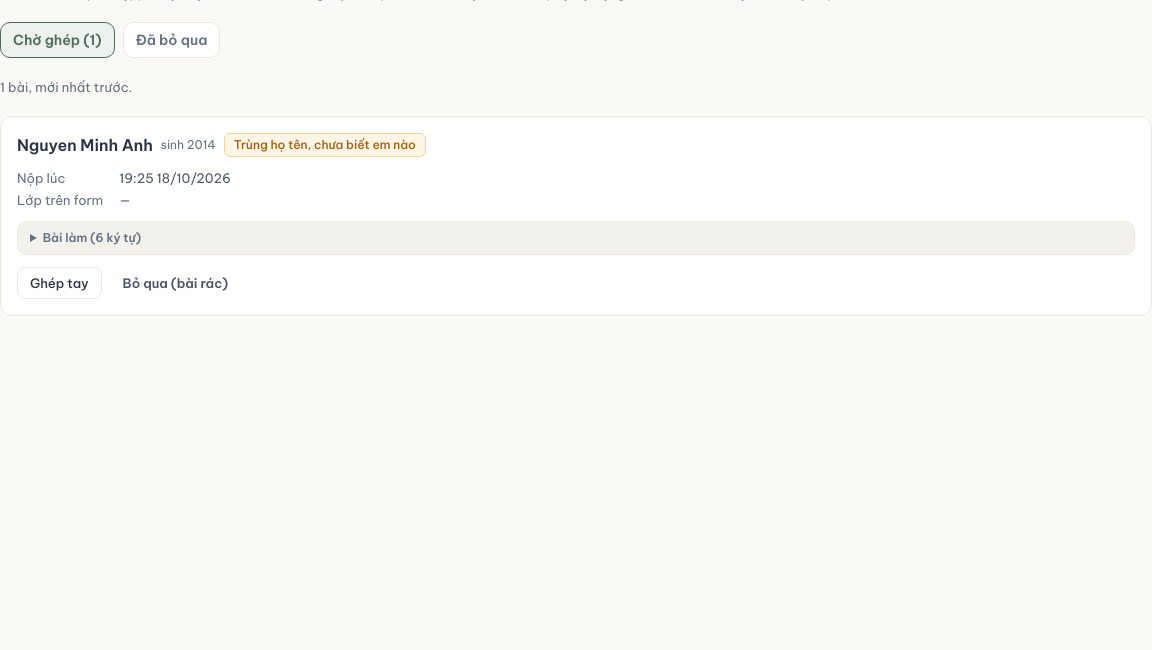
manual match › picks a student, then one of their sessions that day, and matches
Click the button "Ghép tay" at (59, 283), box x1=17 y1=267 x2=102 y2=299
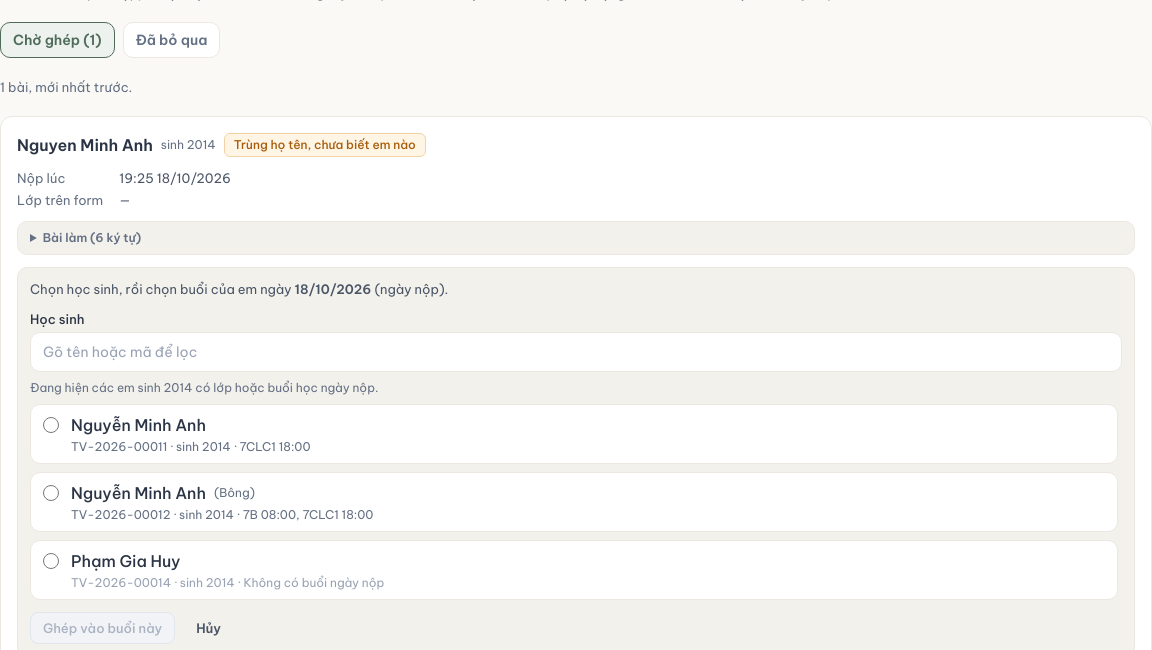
Result: the text "18/10/2026" is shown at x1=295 y1=281 x2=371 y2=297
Result: the button "Ghép vào buổi này" is disabled at x1=30 y1=612 x2=175 y2=644
Click the radio button labelled "Bông" at (51, 493), box x1=43 y1=485 x2=59 y2=501
(page scrolled)
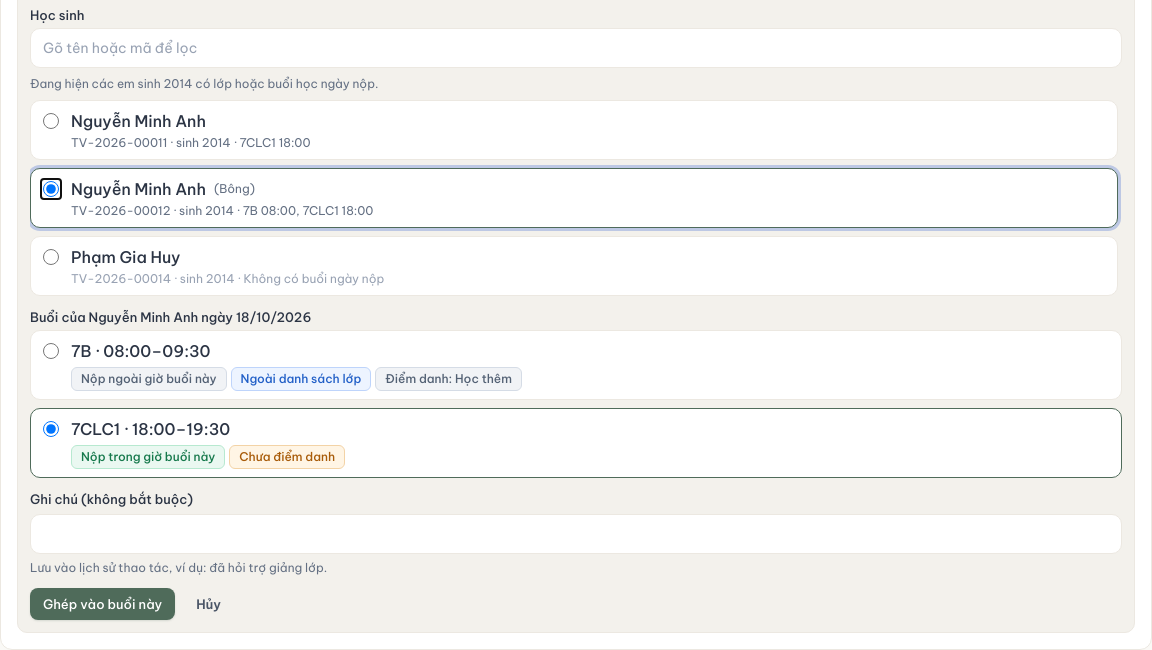
Result: the radio button labelled "7CLC1 · 18:00–19:30 Nộp trong giờ buổi này Chưa điểm danh" is checked at x1=43 y1=421 x2=59 y2=437
Result: the radio button labelled "7B · 08:00–09:30" is not checked
Result: the text "Ngoài danh sách lớp" is shown at x1=231 y1=367 x2=371 y2=391
Click the radio button labelled "7B · 08:00–09:30" at (51, 351), box x1=43 y1=343 x2=59 y2=359
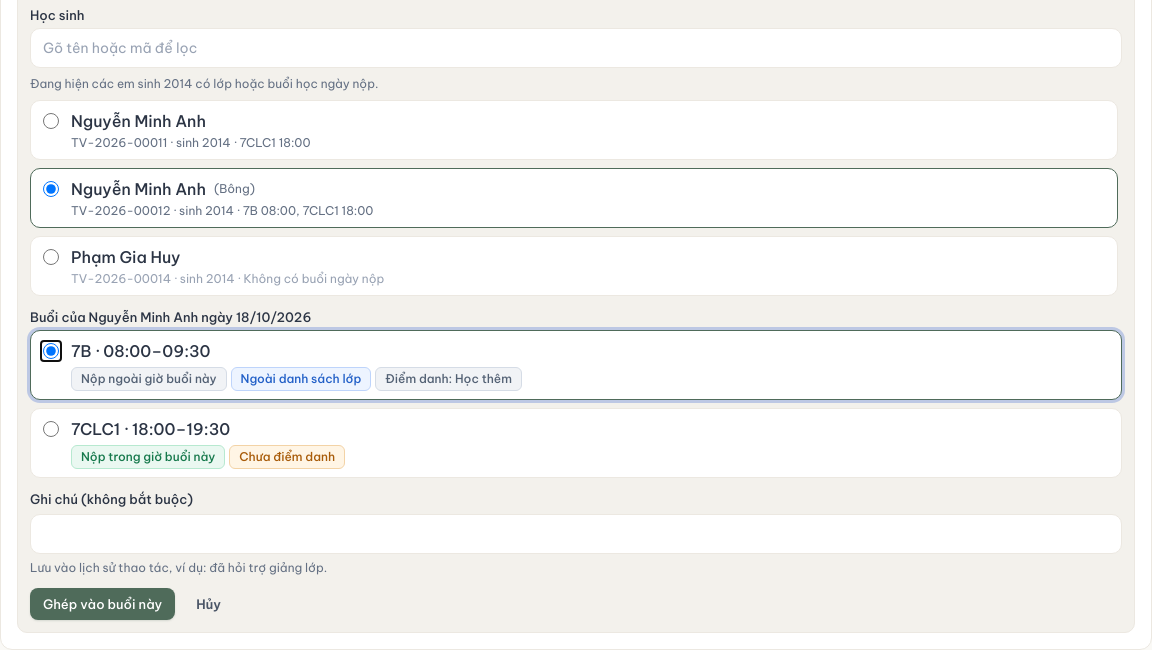
Type "Em học bù sáng" into the field labelled "Ghi chú (không bắt buộc)" at (576, 534), box x1=30 y1=514 x2=1122 y2=554
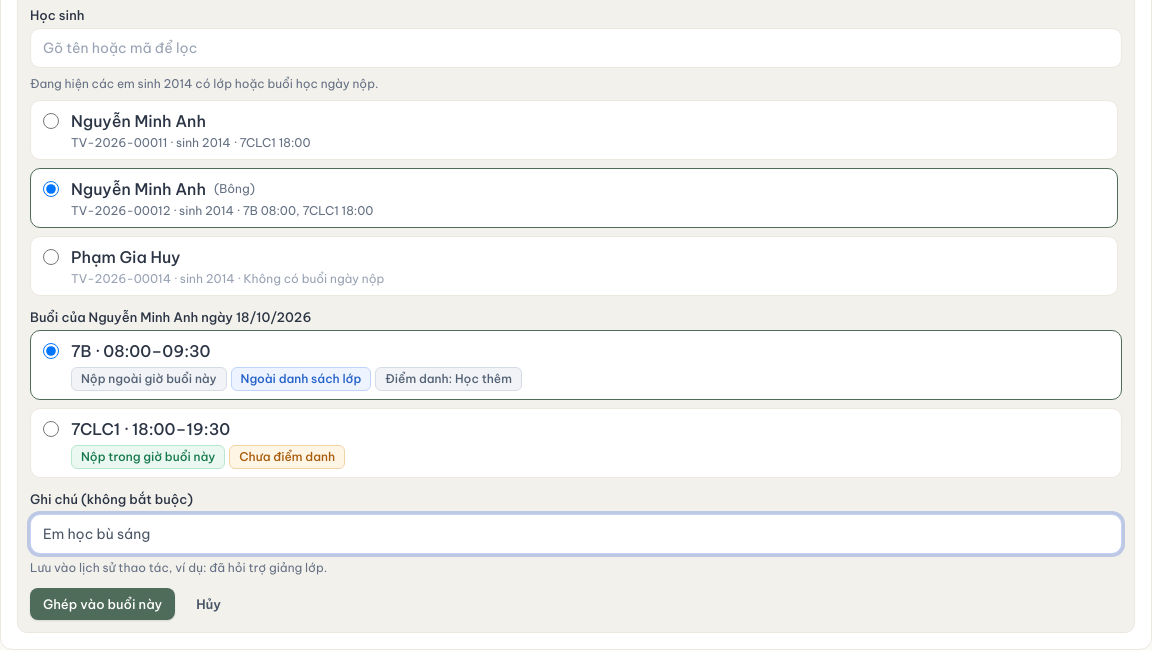
Click the button "Ghép vào buổi này" at (103, 604), box x1=30 y1=588 x2=175 y2=620
(page scrolled)
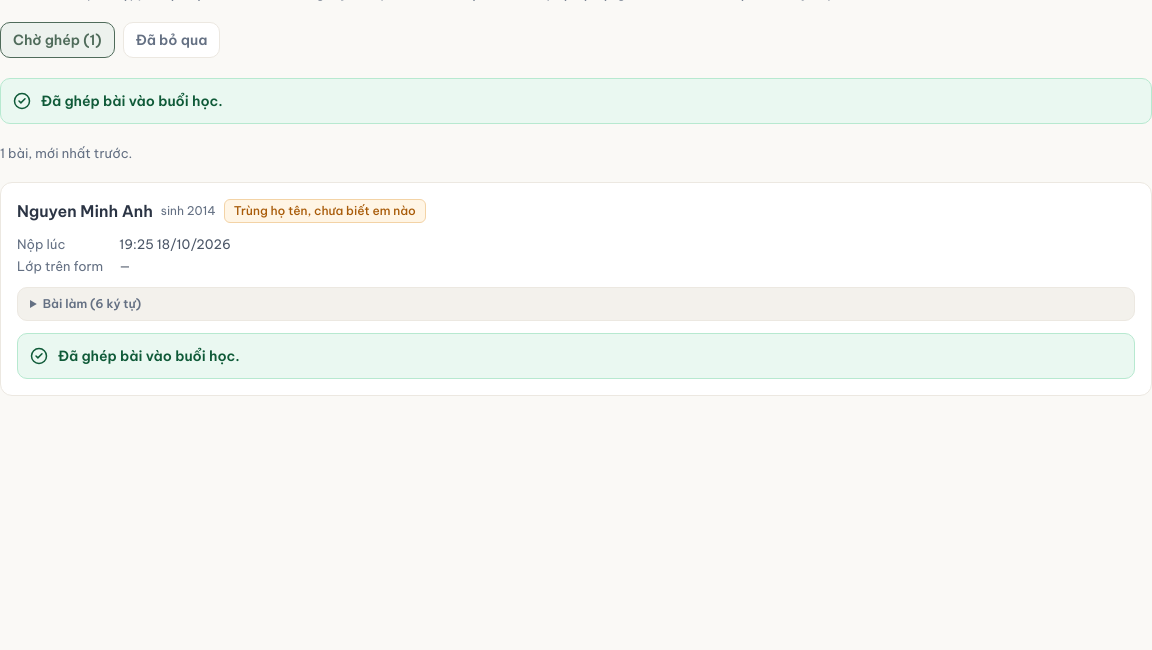
Expected: the button "Ghép tay" is not shown
Result: the text "Đã ghép bài vào buổi học." is shown 2 times at x1=41 y1=92 x2=223 y2=110; x1=58 y1=347 x2=240 y2=365
